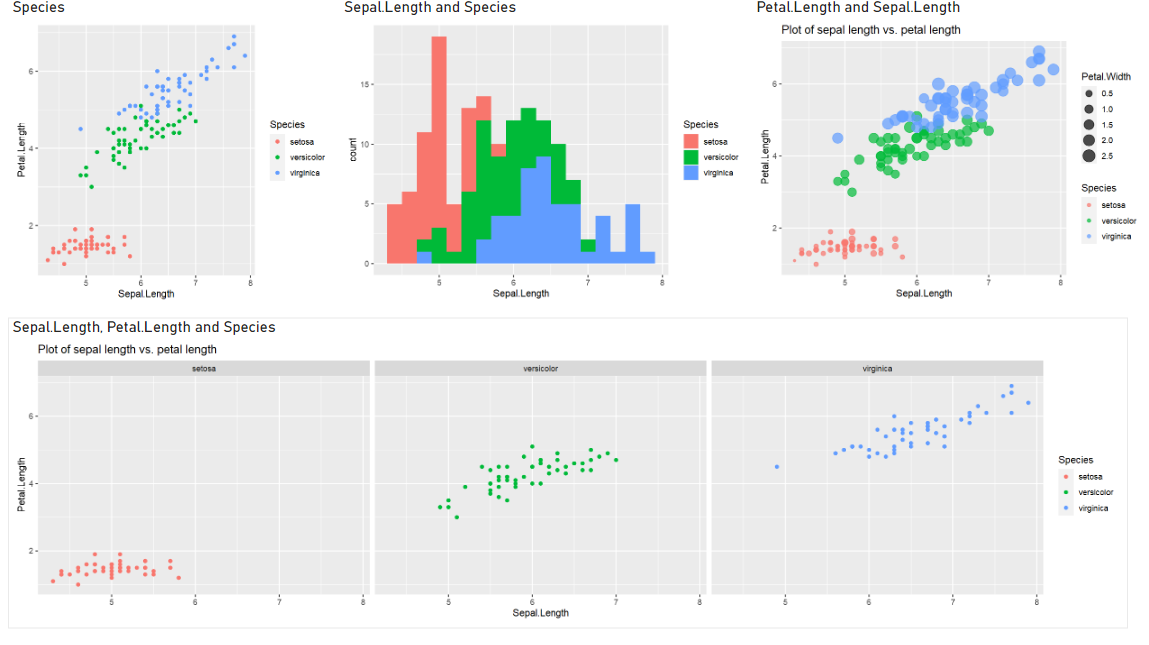

Layout of this report page (visuals, bound fields, positions):
{"tool":"powerbi","page":{"name":"Page 1","canvas":[1280,720],"ordinal":0},"visuals":[{"type":"scriptVisual","fields":{"Values":["iris.Species"]},"box":[10.5,0,367.9,345.1],"z":0},{"type":"scriptVisual","fields":{"Values":["iris.Petal.Length","iris.Sepal.Length"]},"box":[837.4,0,443.2,345.1],"z":1000},{"type":"scriptVisual","fields":{"Values":["iris.Sepal.Length","iris.Species"]},"box":[378.4,0,459,345.1],"z":2000},{"type":"scriptVisual","fields":{"Values":["iris.Sepal.Length","iris.Petal.Length","iris.Species"]},"box":[10.5,355.6,1243.8,345.1],"z":3000}]}

Visuals, with their boxes in screenshot pixels (x1, y1, x2, y2), scaled from the page's 1280x720 canvas onto the 1149x645 screenshot:
scriptVisual - iris.Species: 9:0:340:309
scriptVisual - iris.Petal.Length x iris.Sepal.Length: 752:0:1148:309
scriptVisual - iris.Sepal.Length x iris.Species: 340:0:752:309
scriptVisual - iris.Sepal.Length x iris.Petal.Length: 9:319:1126:628
